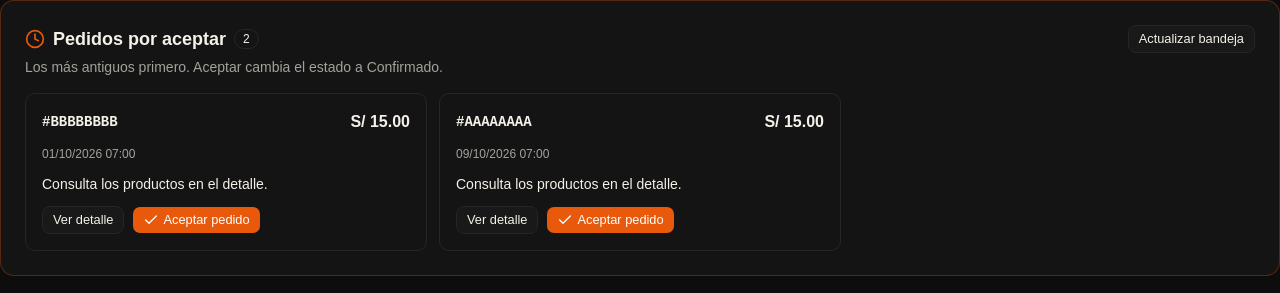
Test: reconciles a competing acceptance after HTTP 400
Click the button "Aceptar pedido" below "01/10/2026 07:00" at (197, 220), box top-left (132, 206), bottom-right (261, 234)
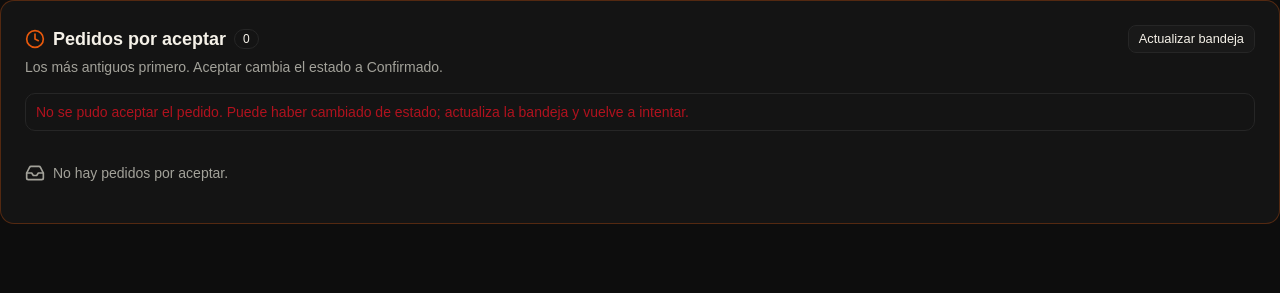
Expected: the text "No se pudo aceptar el pedido" is shown, top-left (36, 104), bottom-right (689, 120)
Expected: the text "No hay pedidos por aceptar." is shown, top-left (25, 163), bottom-right (228, 183)
